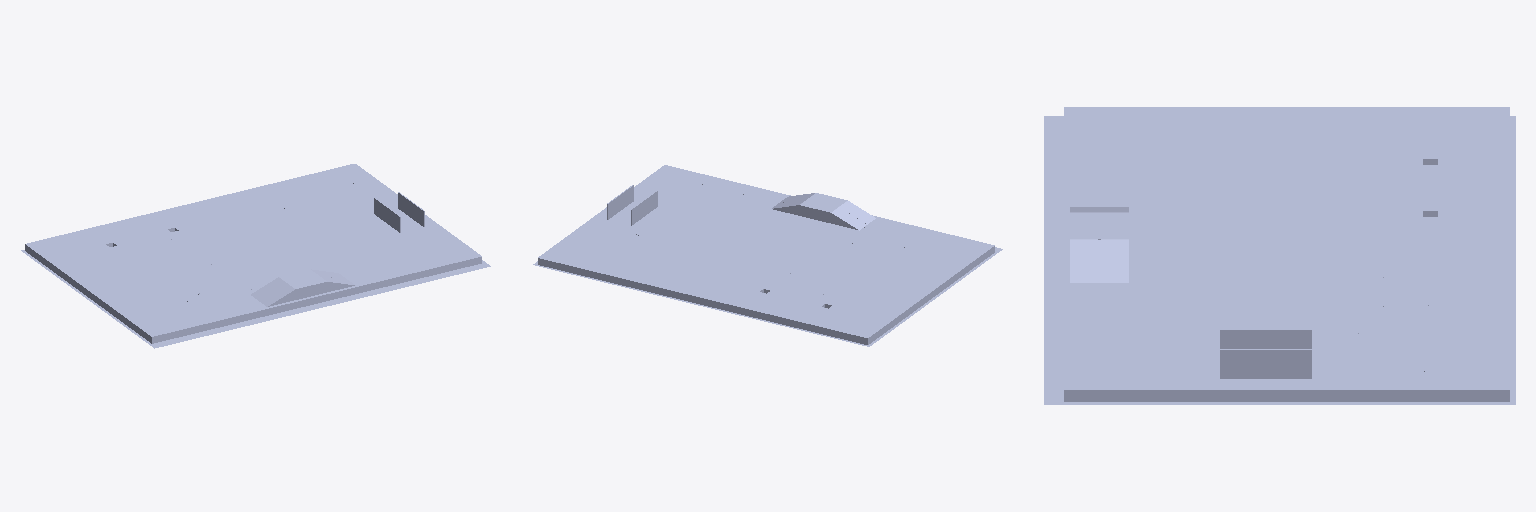
URDF robot description (sample_arena_urdf):
<?xml version="1.0" encoding="utf-8"?>
<!-- This URDF was automatically created by SolidWorks to URDF Exporter! Originally created by [author] ([email redacted]) 
     Commit Version: 1.5.1-0-g916b5db  Build Version: 1.5.7152.31018
     For more information, please see http://wiki.ros.org/sw_urdf_exporter -->
<robot
  name="sample_arena_urdf">
  <link
    name="base">
    <inertial>
      <origin
        xyz="0 0 0"
        rpy="0 0 0" />
      <mass
        value="2994.3" />
      <inertia
        ixx="8712.4"
        ixy="24.678"
        ixz="-16.049"
        iyy="12837"
        iyz="-3.4926"
        izz="4137.3" />
    </inertial>
    <visual>
      <origin
        xyz="0 0 0"
        rpy="0 0 0" />
      <geometry>
        <mesh
          filename="package://sample_arena_urdf/meshes/arena_samplenew.dae" />
      </geometry>
      <material
        name="">
        <color
          rgba="0.79216 0.81961 0.93333 1" />
      </material>
    </visual>
    <collision>
      <origin
        xyz="0 0 0"
        rpy="0 0 0" />
      <geometry>
        <mesh
          filename="package://sample_arena_urdf/meshes/arena_samplenew.dae" />
      </geometry>
    </collision>
  </link>
</robot>

--- What the picture shows (computed from the rendered views, not written in the file) ---
3 views of the same robot in one strip: view 1: azimuth 30°, elevation 25°; view 2: azimuth 150°, elevation 25°; view 3: azimuth 270°, elevation 25° (orthographic).
Robot: sample_arena_urdf — 1 links, 0 joints (none); root link base; default pose: every joint at zero.
Links seen in each view (by area): view 1: base; view 2: base; view 3: base.
Link boxes in pixels (<box>): base: <box>21,164,490,348</box>; base: <box>533,165,1002,346</box>; base: <box>1044,107,1515,404</box>.
Bounding box of the posed robot: 6.12 × 4.22 × 0.4 m (x, y, z).
Meshes: 1 distinct files referenced, 1 mesh visuals loaded (1 Collada DAE).